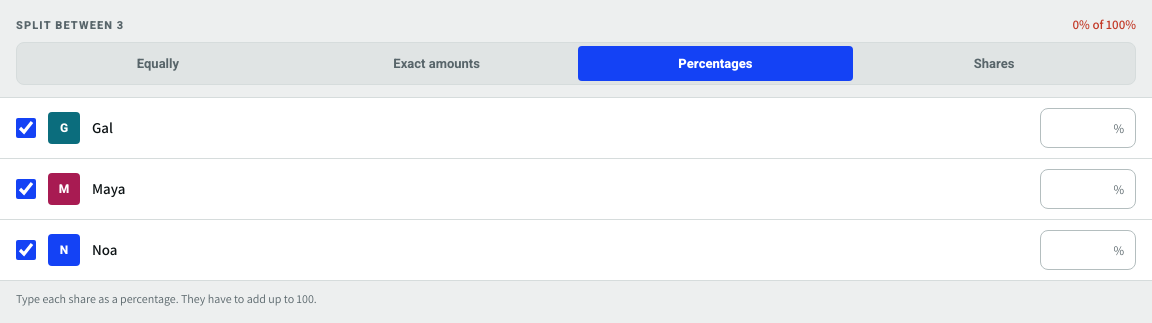
it: validation › complains when percentages do not reach 100
The width and height of the screenshot is (1152, 323).
Type "33" into the field named "Gal's percentage" at (1088, 128), box left=1040, top=108, right=1136, bottom=148
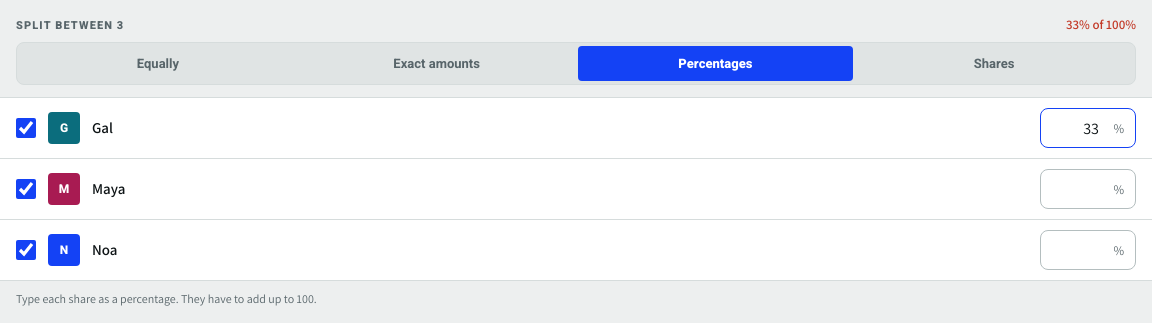
Type "33" into the field named "Maya's percentage" at (1088, 189), box left=1040, top=169, right=1136, bottom=209
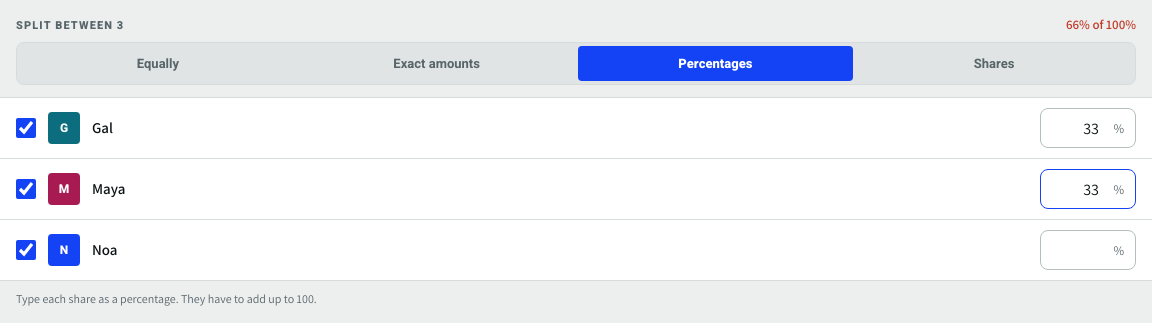
Type "33" into the field named "Noa's percentage" at (1088, 250), box left=1040, top=230, right=1136, bottom=270
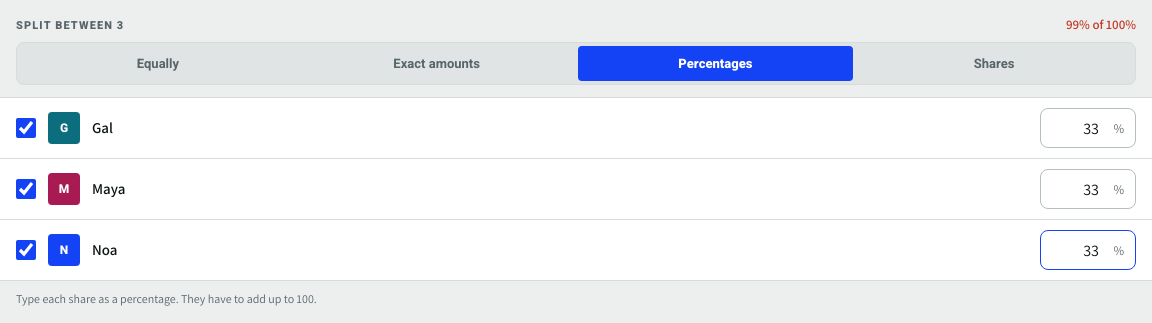
Expected: the message reads "99% of 100%", left=1066, top=16, right=1136, bottom=33
